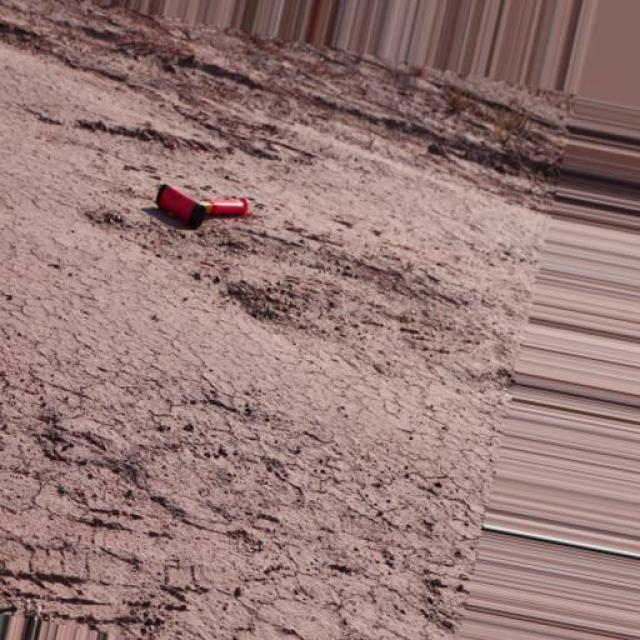mallet: (154, 182, 252, 228)
